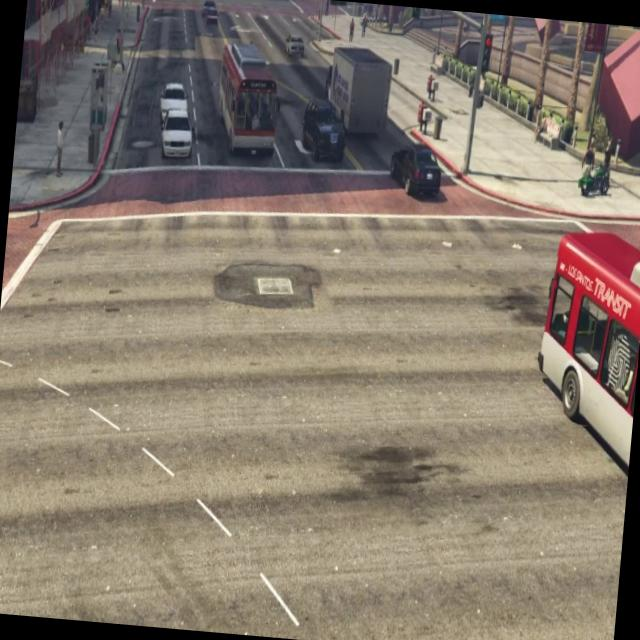Red-Signal: (476, 23, 498, 80), (322, 0, 354, 16), (406, 7, 425, 30)
